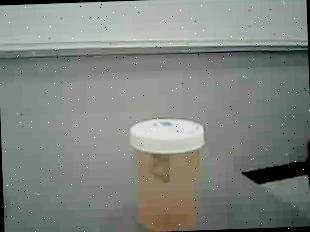Bottle B: (125, 116, 209, 232)
